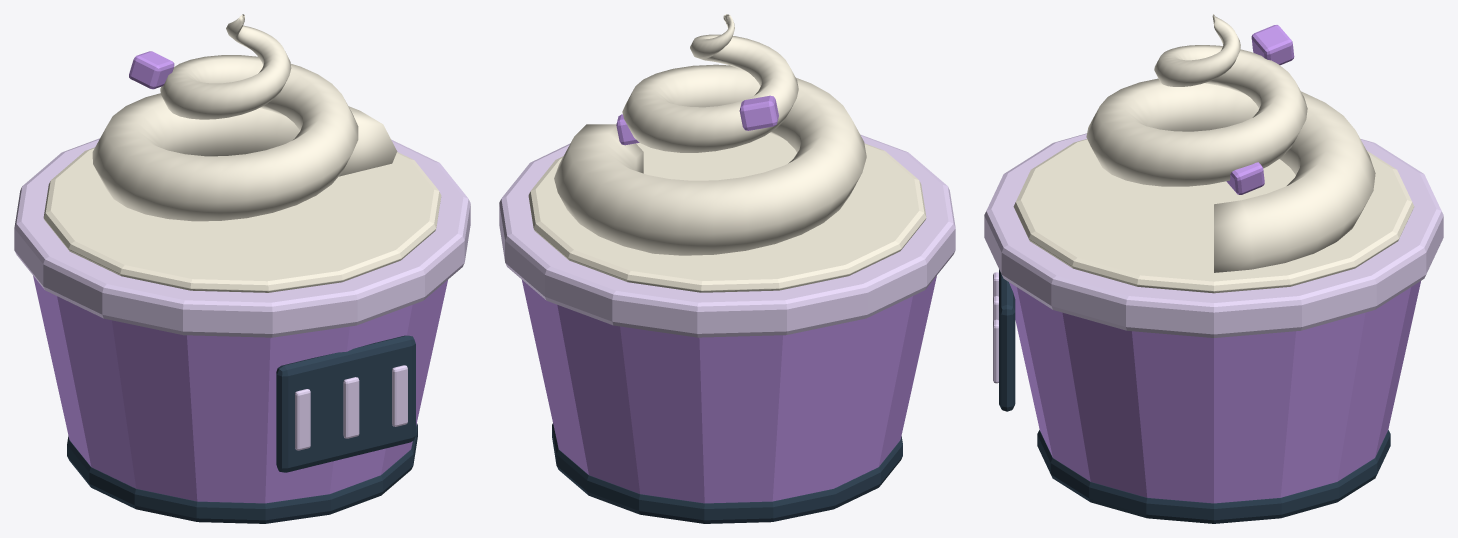
File: cache_cream_item.glb
3 views of the same model, side by side, from view 1: azimuth 30°, elevation 25°; view 2: azimuth 150°, elevation 25°; view 3: azimuth 270°, elevation 25° (orthographic).
Visible parts, largest first — view 1: Cache cream tub, Vanilla cache cream, Fresh cream surface, Cream tub rim, Cache chip badge, Tub lower ring, Cache sprinkles.001, Badge circuit.001, Badge circuit.002, Badge circuit; view 2: Cache cream tub, Vanilla cache cream, Cream tub rim, Fresh cream surface, Tub lower ring, Cache sprinkles.001; view 3: Cache cream tub, Vanilla cache cream, Fresh cream surface, Cream tub rim, Tub lower ring, Cache chip badge, Cache sprinkles.001, Cache sprinkles.
Boxes of the visible parts, box(x1,y1,x2,y2) form: Cache cream tub: box(33, 276, 447, 503); Vanilla cache cream: box(92, 14, 397, 221); Fresh cream surface: box(43, 147, 441, 292); Cream tub rim: box(14, 138, 470, 337); Cache chip badge: box(276, 335, 415, 472); Tub lower ring: box(67, 423, 417, 523); Cache sprinkles.001: box(129, 51, 174, 89); Badge circuit.001: box(343, 377, 359, 438); Badge circuit.002: box(392, 365, 407, 426); Badge circuit: box(295, 389, 310, 450); Cache cream tub: box(522, 276, 936, 503); Vanilla cache cream: box(554, 14, 866, 255); Cream tub rim: box(499, 134, 955, 337); Fresh cream surface: box(528, 133, 926, 292); Tub lower ring: box(552, 423, 902, 523); Cache sprinkles.001: box(739, 95, 778, 130); Cache cream tub: box(1009, 281, 1420, 503); Vanilla cache cream: box(1086, 14, 1375, 272); Fresh cream surface: box(1013, 139, 1414, 293); Cream tub rim: box(984, 133, 1443, 337); Tub lower ring: box(1037, 430, 1390, 523); Cache chip badge: box(999, 269, 1015, 411); Cache sprinkles.001: box(1251, 25, 1294, 65); Cache sprinkles: box(1226, 162, 1264, 194).
Size of the model in its own units: 0.78 by 0.8196 by 0.78.
